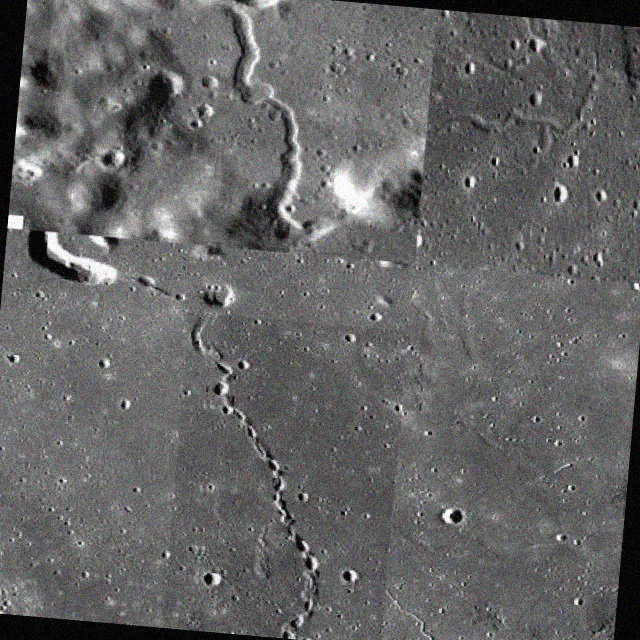crater: (381, 264, 640, 640), (33, 0, 366, 253), (162, 311, 407, 640), (421, 9, 640, 207)
